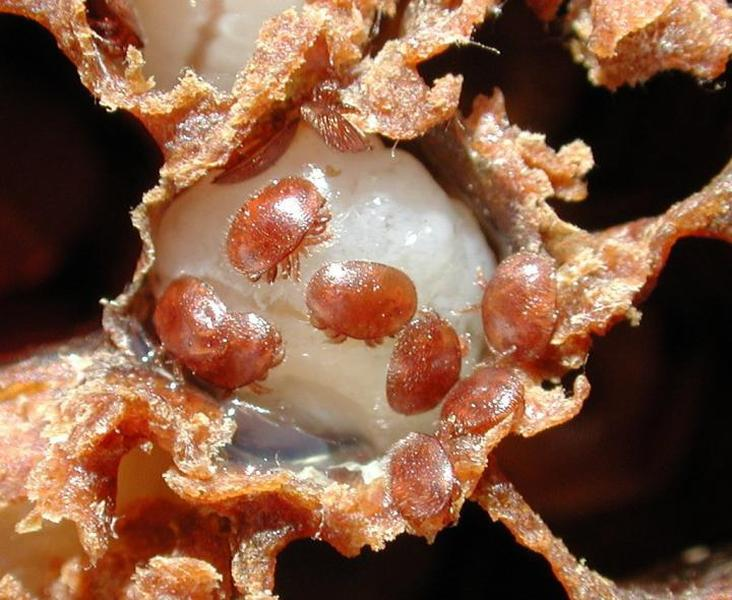Varrao: (223, 176, 331, 284), (305, 258, 419, 344), (477, 251, 556, 365), (387, 311, 460, 413), (385, 433, 453, 521), (152, 276, 221, 355)
